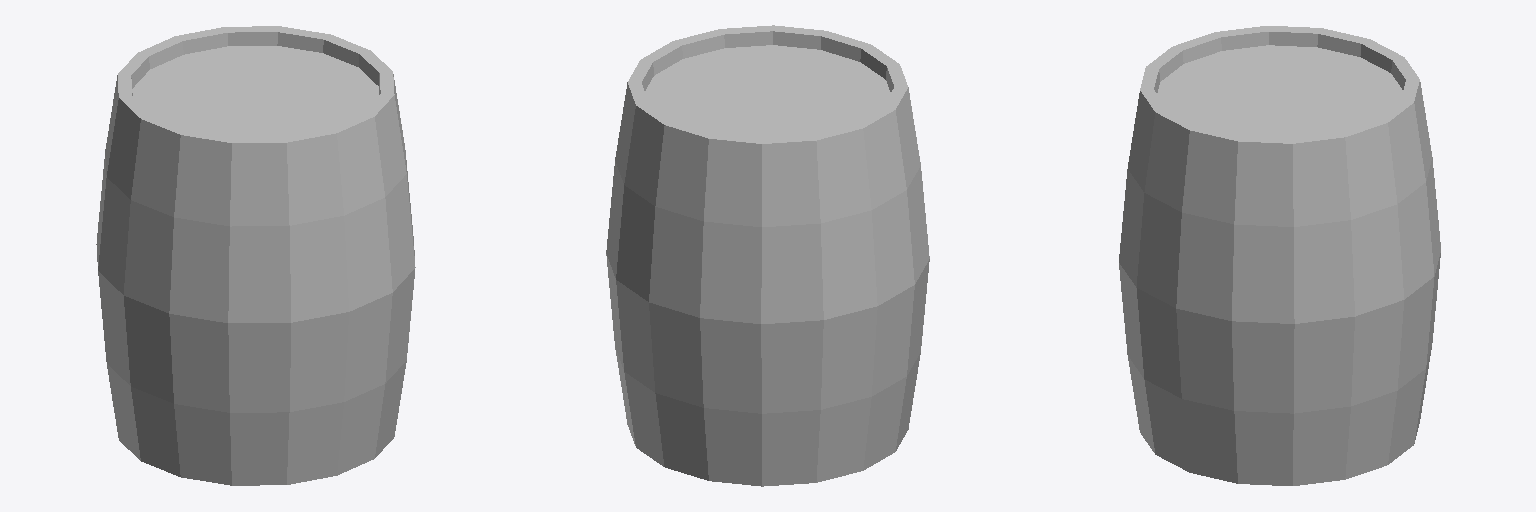
The model's file is barrel_4_006.obj.
3 views of the same model, side by side, from view 1: azimuth 30°, elevation 25°; view 2: azimuth 150°, elevation 25°; view 3: azimuth 270°, elevation 25° (orthographic).
Visible parts, largest first — view 1: barrel1_Circle.002; view 2: barrel1_Circle.002; view 3: barrel1_Circle.002.
Boxes of the visible parts, x1,y1,x2,y2 form: barrel1_Circle.002: [96, 26, 415, 485]; barrel1_Circle.002: [606, 25, 929, 486]; barrel1_Circle.002: [1119, 26, 1440, 485].
Bounding box in the file's own units: 2.3 × 2.69 × 2.3.